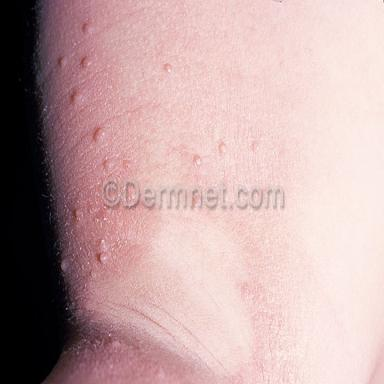Molluscum-Contagiosum: (94, 127, 103, 142), (72, 91, 82, 103), (219, 143, 228, 156), (60, 54, 68, 67), (83, 23, 92, 34), (82, 56, 90, 68), (194, 154, 202, 166), (100, 252, 107, 264), (165, 63, 173, 73), (252, 143, 259, 153), (104, 159, 111, 168), (75, 209, 79, 218)
